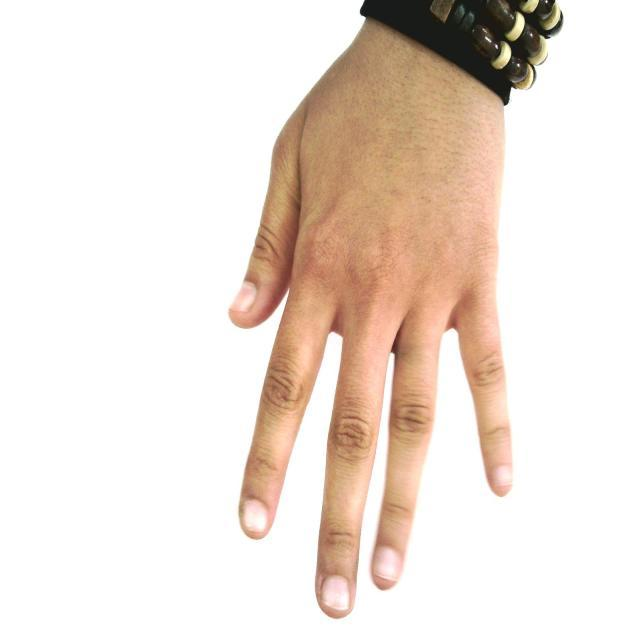Fingernail: (322, 576, 349, 611), (373, 547, 400, 579), (243, 500, 268, 532), (232, 282, 256, 311), (494, 467, 511, 489)
